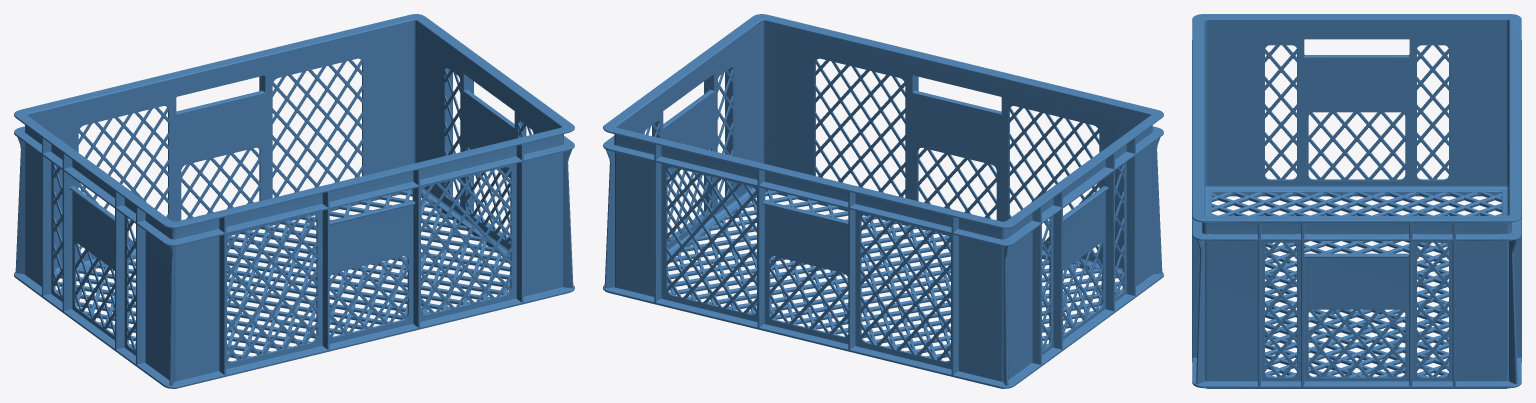
Rendered from crate_blue_a02.glb.
3 views of the same model, side by side, from view 1: azimuth 30°, elevation 25°; view 2: azimuth 150°, elevation 25°; view 3: azimuth 270°, elevation 25° (orthographic). The views are drawn at different scales.
Size of the model in its own units: 0.6117 by 0.2403 by 0.4116.
